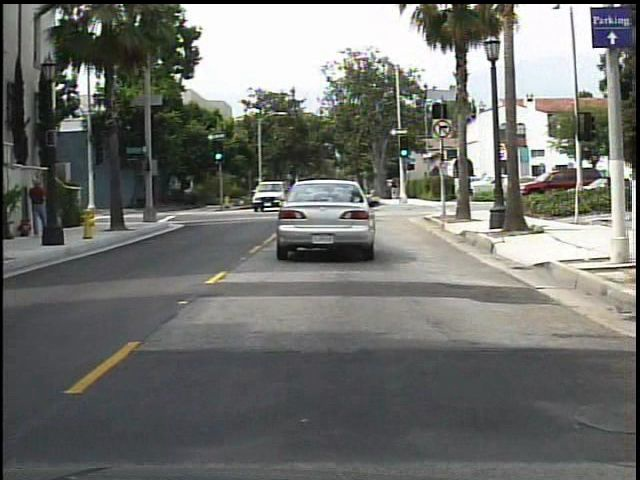person: (24, 176, 52, 243)
